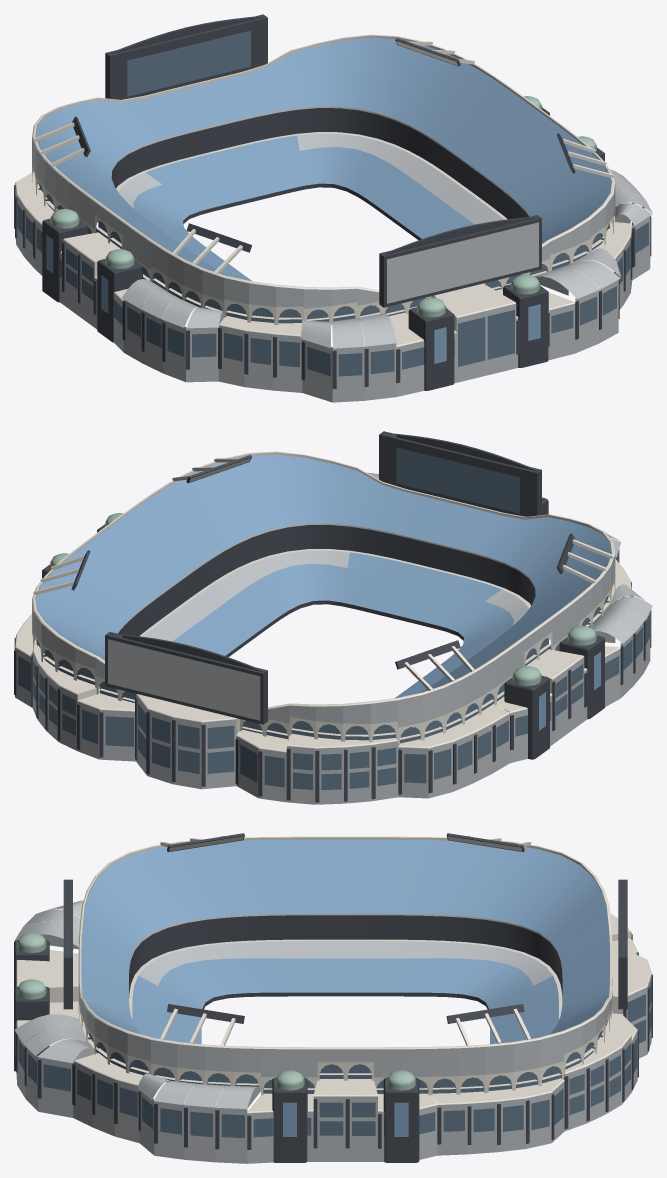
The model's file is bank-of-america-stadium.glb.
3 views of the same model, one above another, from view 1: azimuth 30°, elevation 25°; view 2: azimuth 150°, elevation 25°; view 3: azimuth 270°, elevation 25° (orthographic).
Visible parts, largest first — view 1: Bank of America Stadium; view 2: Bank of America Stadium; view 3: Bank of America Stadium.
Boxes of the visible parts, x1,y1,x2,y2 form: Bank of America Stadium: (14, 14, 652, 402); Bank of America Stadium: (14, 431, 652, 804); Bank of America Stadium: (14, 833, 652, 1163).
Size of the model in its own units: 247 by 60.5 by 270.
